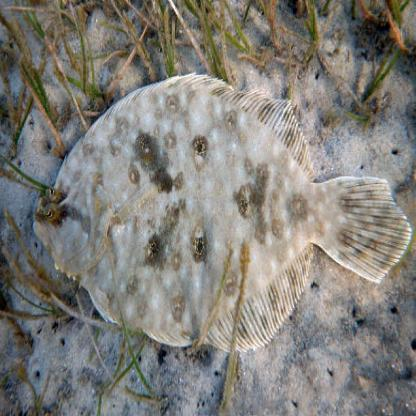flounder: (28, 63, 413, 356)
